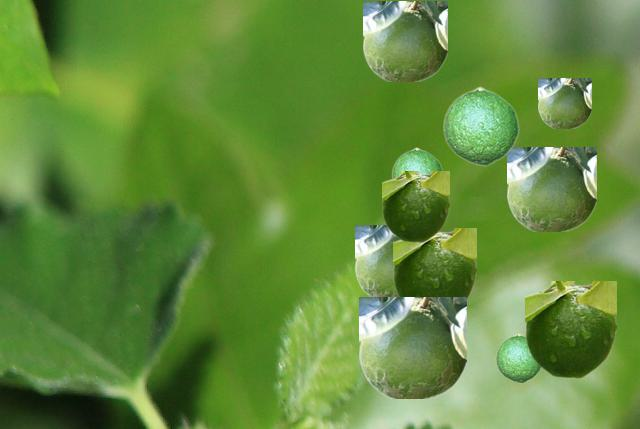dalandan: (359, 297, 465, 397), (525, 281, 615, 377), (507, 147, 595, 230), (363, 1, 446, 80), (442, 86, 518, 165), (393, 228, 475, 301), (382, 171, 448, 241), (355, 225, 397, 296), (538, 78, 590, 127), (495, 333, 540, 382), (391, 147, 442, 177)
